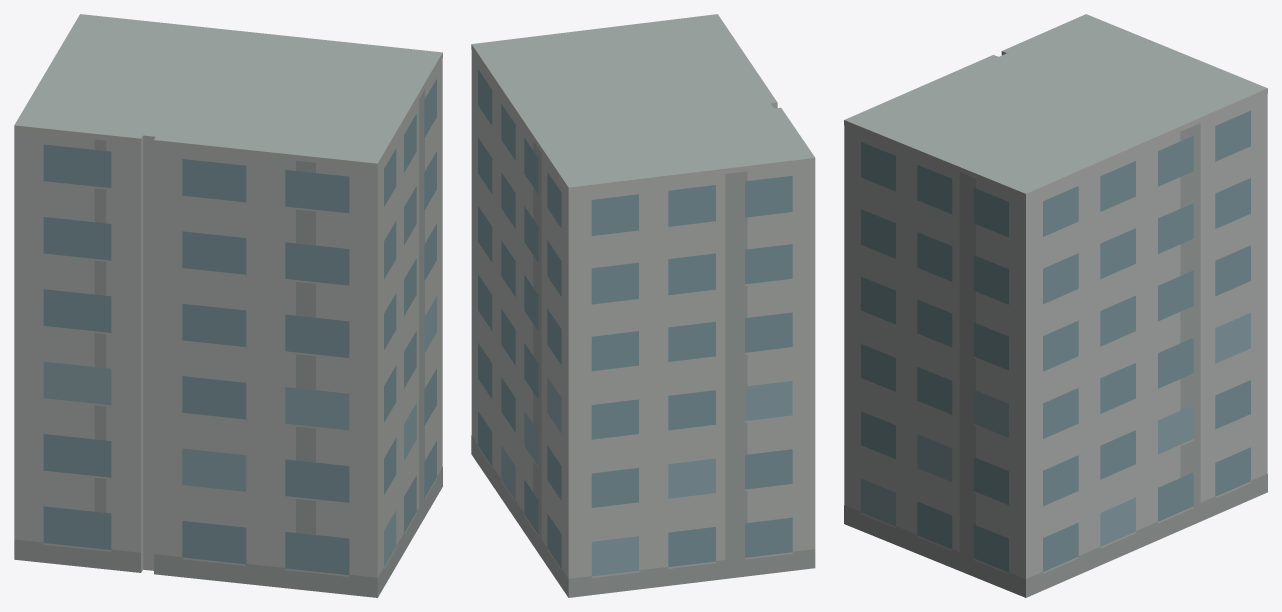
The model's file is survey-upis-32884996.glb.
The picture shows the model from 3 angles, left to right: view 1: azimuth 30°, elevation 25°; view 2: azimuth 150°, elevation 25°; view 3: azimuth 270°, elevation 25°; orthographic projection. The views are drawn at different scales.
Visible parts, largest first — view 1: survey-upis-32884996.tmp; view 2: survey-upis-32884996.tmp; view 3: survey-upis-32884996.tmp.
Boxes of the visible parts, left/top/right/bottom form: survey-upis-32884996.tmp: left=14, top=14, right=442, bottom=597; survey-upis-32884996.tmp: left=471, top=14, right=815, bottom=597; survey-upis-32884996.tmp: left=844, top=14, right=1267, bottom=597.
Bounding box in the file's own units: 17.58 × 18.4 × 17.49.
